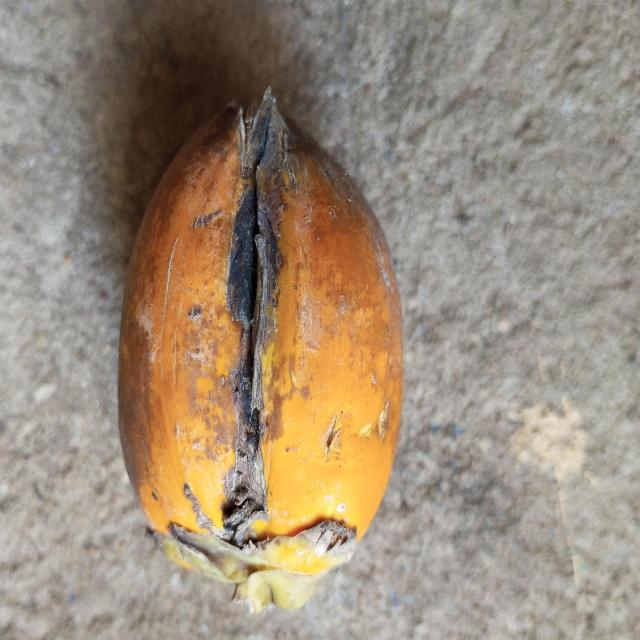damaged: (117, 91, 405, 613)
